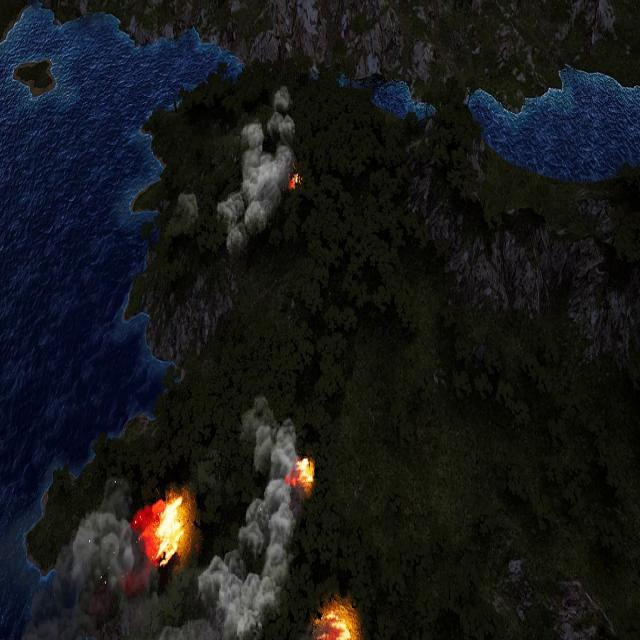fire: (154, 493, 188, 564), (322, 609, 356, 640), (288, 456, 316, 492), (290, 173, 300, 191)
smoke: (194, 395, 313, 638), (21, 471, 148, 639), (214, 84, 295, 255)
